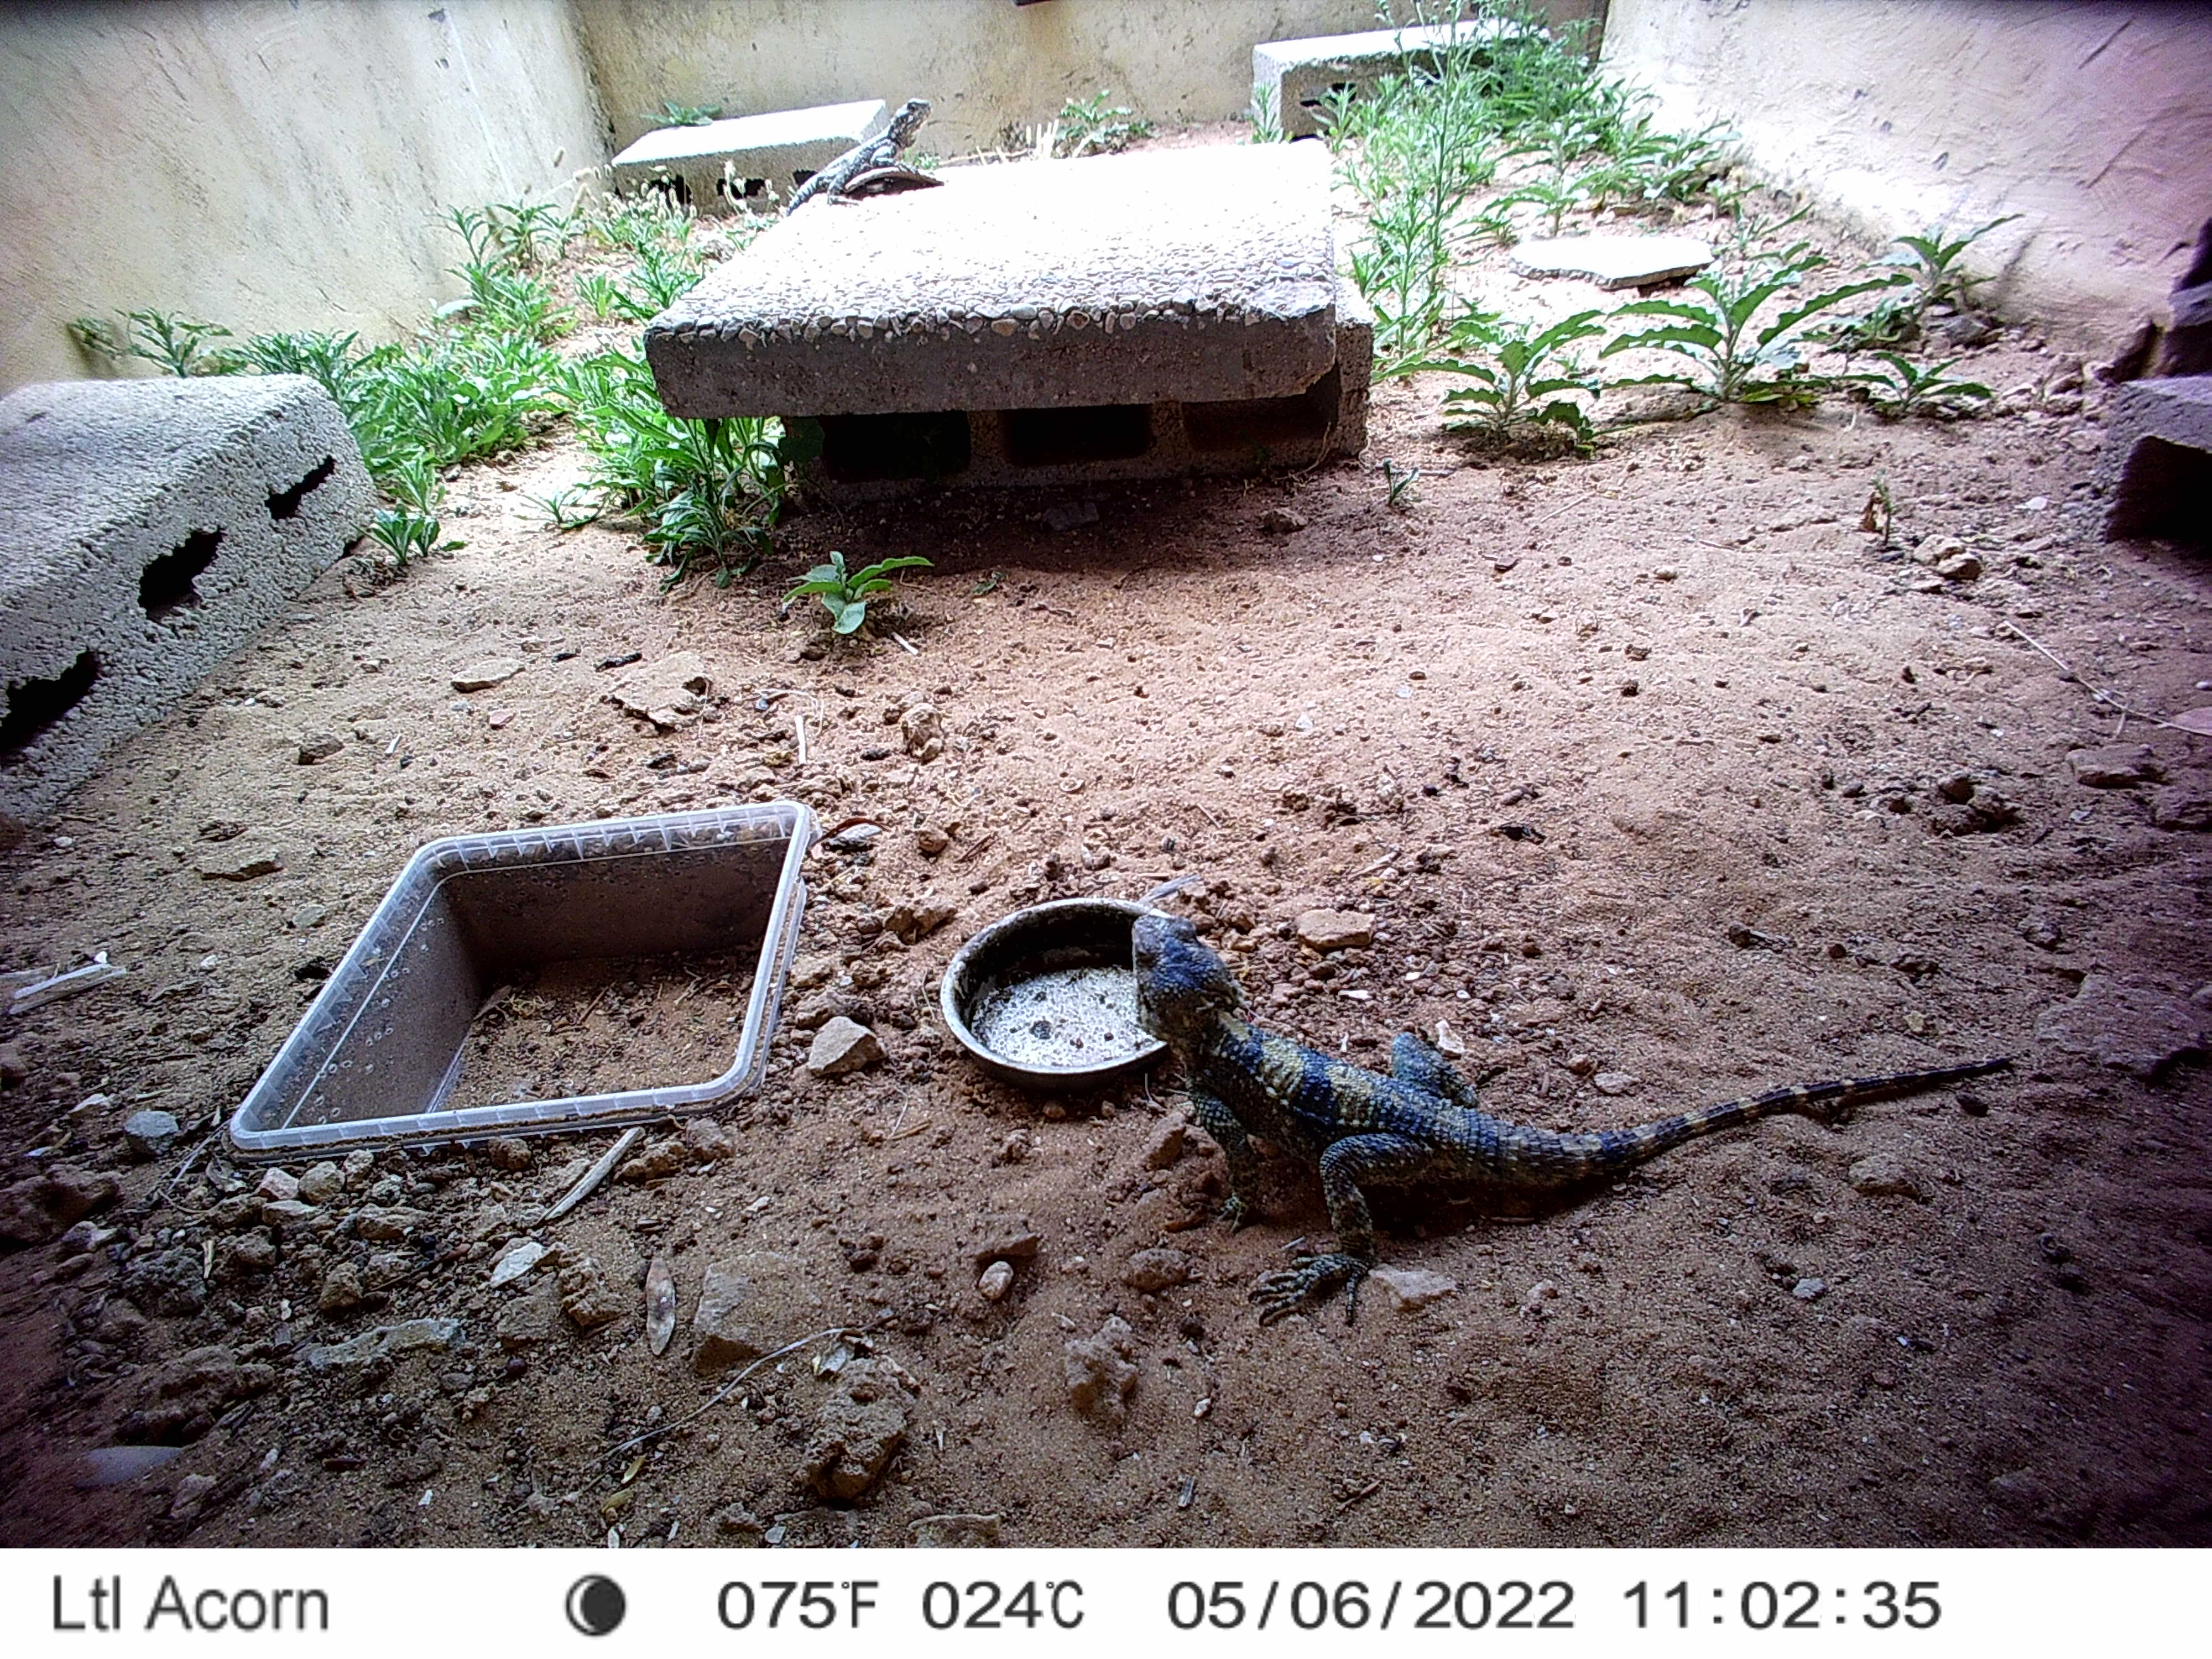lizard: (1123, 904, 2008, 1305), (782, 98, 937, 197)
